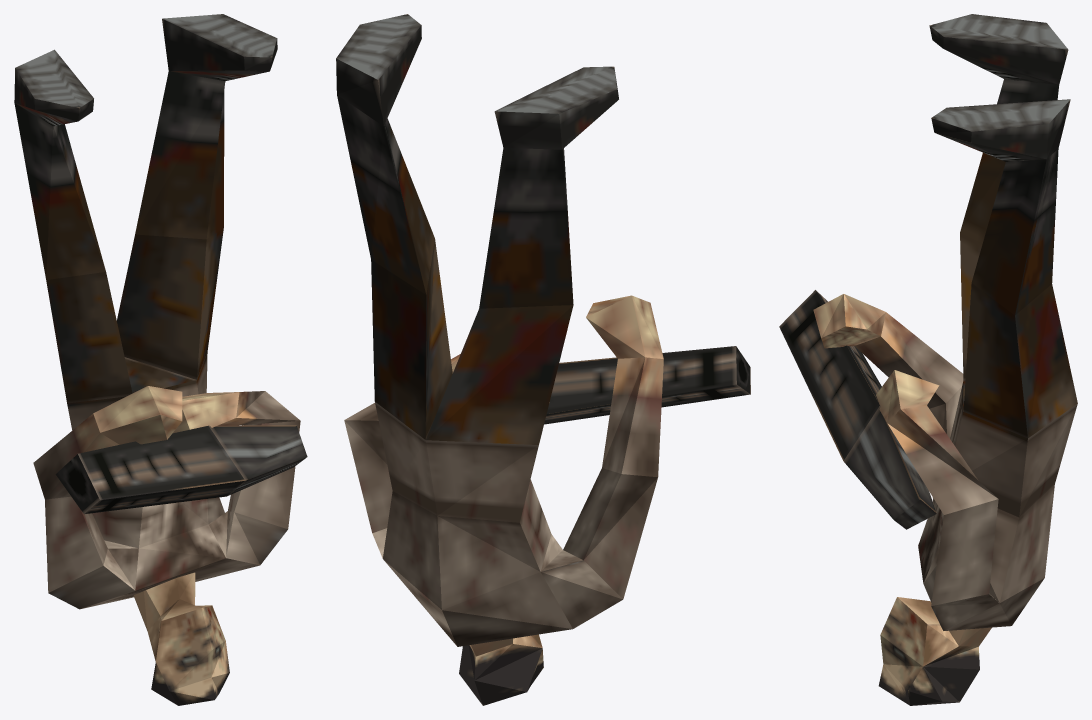
The model's file is GOON_000010.obj.
3 renders of one model, left to right at view 1: azimuth 30°, elevation 25°; view 2: azimuth 150°, elevation 25°; view 3: azimuth 270°, elevation 25°, orthographic. The views are drawn at different scales.
Parts seen in each view (by area): view 1: Cube_Cube.001; view 2: Cube_Cube.001; view 3: Cube_Cube.001.
Boxes of the visible parts, x1=… form: Cube_Cube.001: x1=14, y1=14, x2=307, y2=705; Cube_Cube.001: x1=336, y1=14, x2=750, y2=705; Cube_Cube.001: x1=779, y1=14, x2=1077, y2=705.
Bounding box in the file's own units: 12.64 × 25.14 × 10.86.
